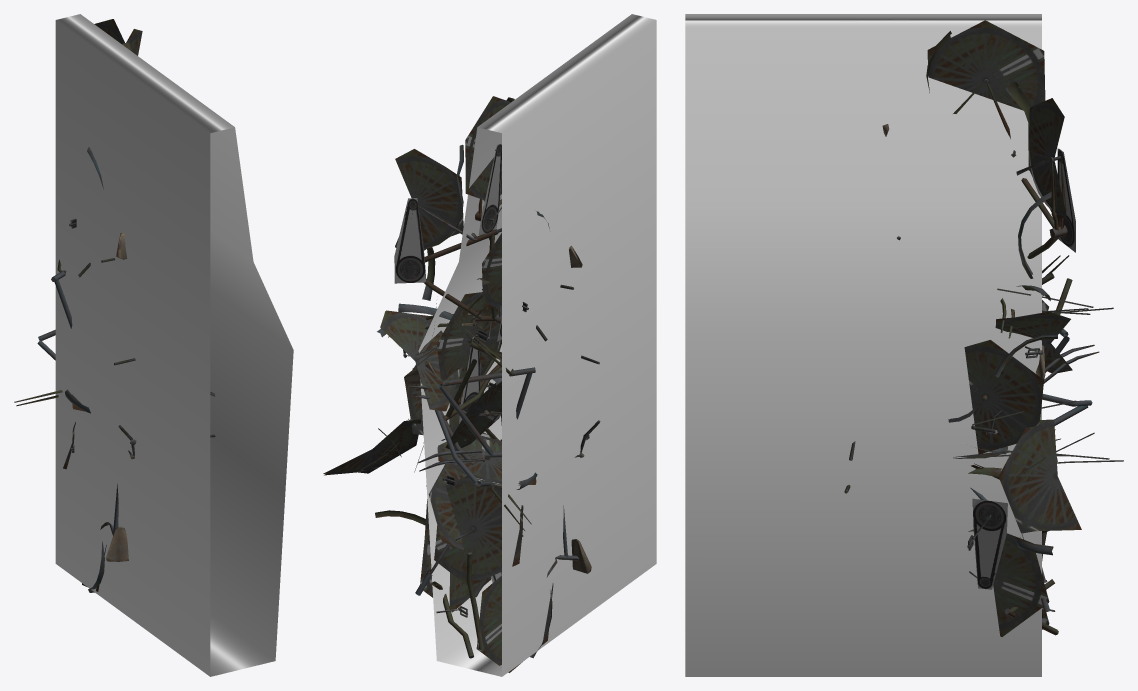
File: hd_env_112_12_BiCycle_03.glb
3 renders of one model, left to right at view 1: azimuth 30°, elevation 25°; view 2: azimuth 150°, elevation 25°; view 3: azimuth 270°, elevation 25°, orthographic. The views are drawn at different scales.
Parts seen in each view (by area): view 1: set_0_group_2, set_0_group_1, set_0_group_0; view 2: set_0_group_2, set_0_group_0, set_0_group_1; view 3: set_0_group_2, set_0_group_1, set_0_group_0.
Part boxes in pixels (<box>): set_0_group_2: <box>55,14,293,676</box>; set_0_group_1: <box>65,19,215,592</box>; set_0_group_0: <box>14,29,142,469</box>; set_0_group_2: <box>418,14,656,676</box>; set_0_group_0: <box>323,144,547,658</box>; set_0_group_1: <box>405,96,600,672</box>; set_0_group_2: <box>685,14,1041,676</box>; set_0_group_1: <box>844,20,1049,636</box>; set_0_group_0: <box>971,82,1123,635</box>.
Bounding box in the file's own units: 1.48 × 4.04 × 2.46.
3 materials, 2 textured.
